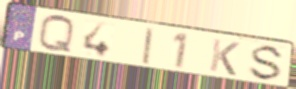1: (171, 32, 189, 72)
4: (81, 21, 114, 60)
I: (140, 26, 156, 67)
K: (207, 37, 242, 78)
Q: (36, 14, 77, 55)
S: (245, 44, 287, 83)
